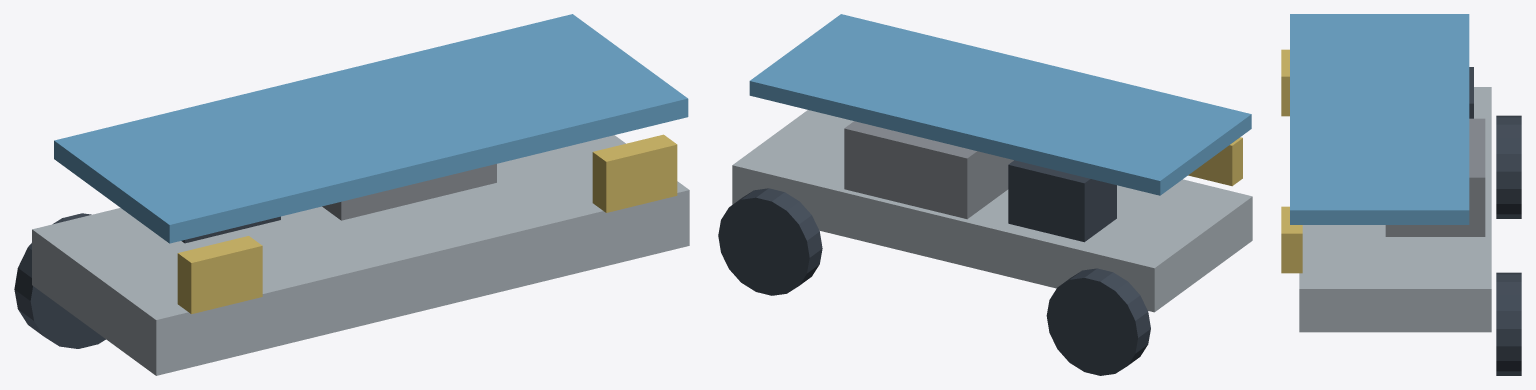
File: vehicle.glb
3 views of the same model, side by side, from view 1: azimuth 30°, elevation 25°; view 2: azimuth 150°, elevation 25°; view 3: azimuth 270°, elevation 25° (orthographic). The views are drawn at different scales.
Visible parts, largest first — view 1: hood, frame, lamp, lamp_1, wheel1, engine; view 2: hood, frame, engine, wheel1, wheel1_1, fusebox, lamp; view 3: hood, frame, engine, wheel1, wheel1_1, lamp_1, lamp, fusebox.
Part boxes in pixels (x1,y1,x2,y2): hood: (54,14,688,243); frame: (32,135,689,375); lamp: (177,236,262,314); lamp_1: (592,134,677,212); wheel1: (14,213,105,348); engine: (322,164,496,220); hood: (749,14,1251,195); frame: (732,110,1252,312); engine: (844,121,1013,219); wheel1: (1046,268,1150,375); wheel1_1: (718,188,822,295); fusebox: (1008,160,1116,242); lamp: (1188,137,1242,186); hood: (1290,14,1469,224); frame: (1299,87,1491,332); engine: (1385,118,1485,236); wheel1: (1496,115,1521,218); wheel1_1: (1496,272,1521,375); lamp_1: (1281,206,1302,273); lamp: (1281,49,1289,116); fusebox: (1469,67,1473,118).
Size of the model in its own units: 3.6 by 1.49 by 1.81.
